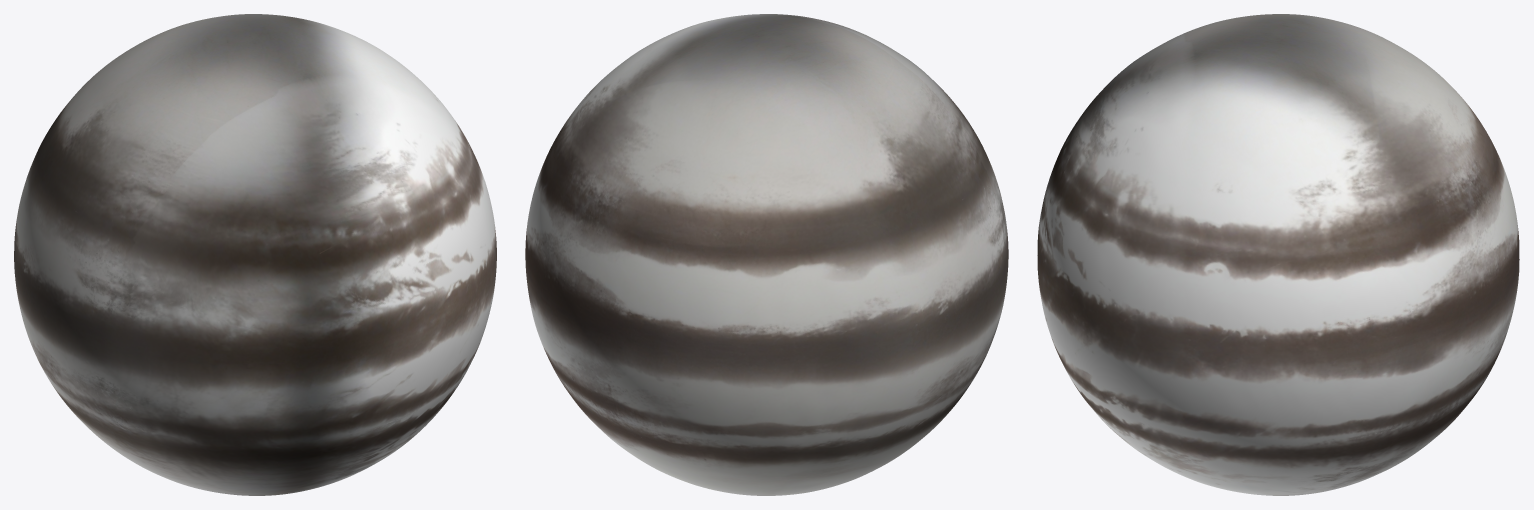
The model's file is lkca_0920040157.glb.
3 renders of one model, left to right at view 1: azimuth 30°, elevation 25°; view 2: azimuth 150°, elevation 25°; view 3: azimuth 270°, elevation 25°, orthographic.
Size of the model in its own units: 2 by 2 by 2.
Materials: 1 (1 with a texture image).
